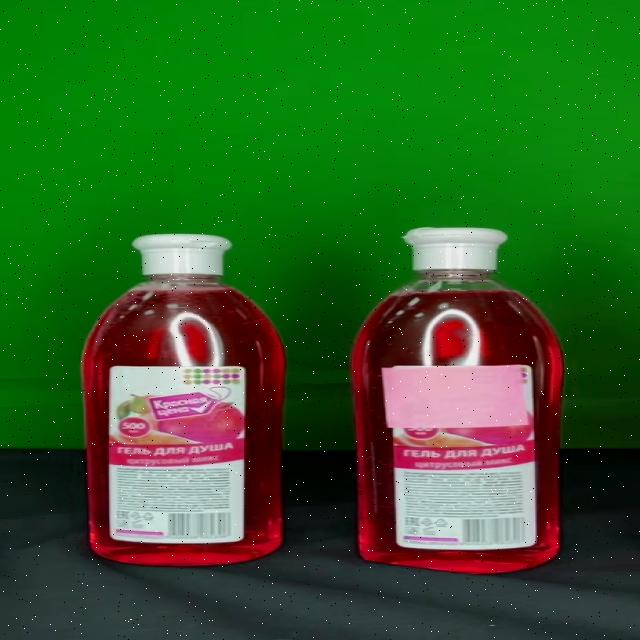Bottle: (354, 227, 561, 574), (81, 234, 282, 565)
Cap: (403, 228, 508, 272), (132, 235, 232, 276)
